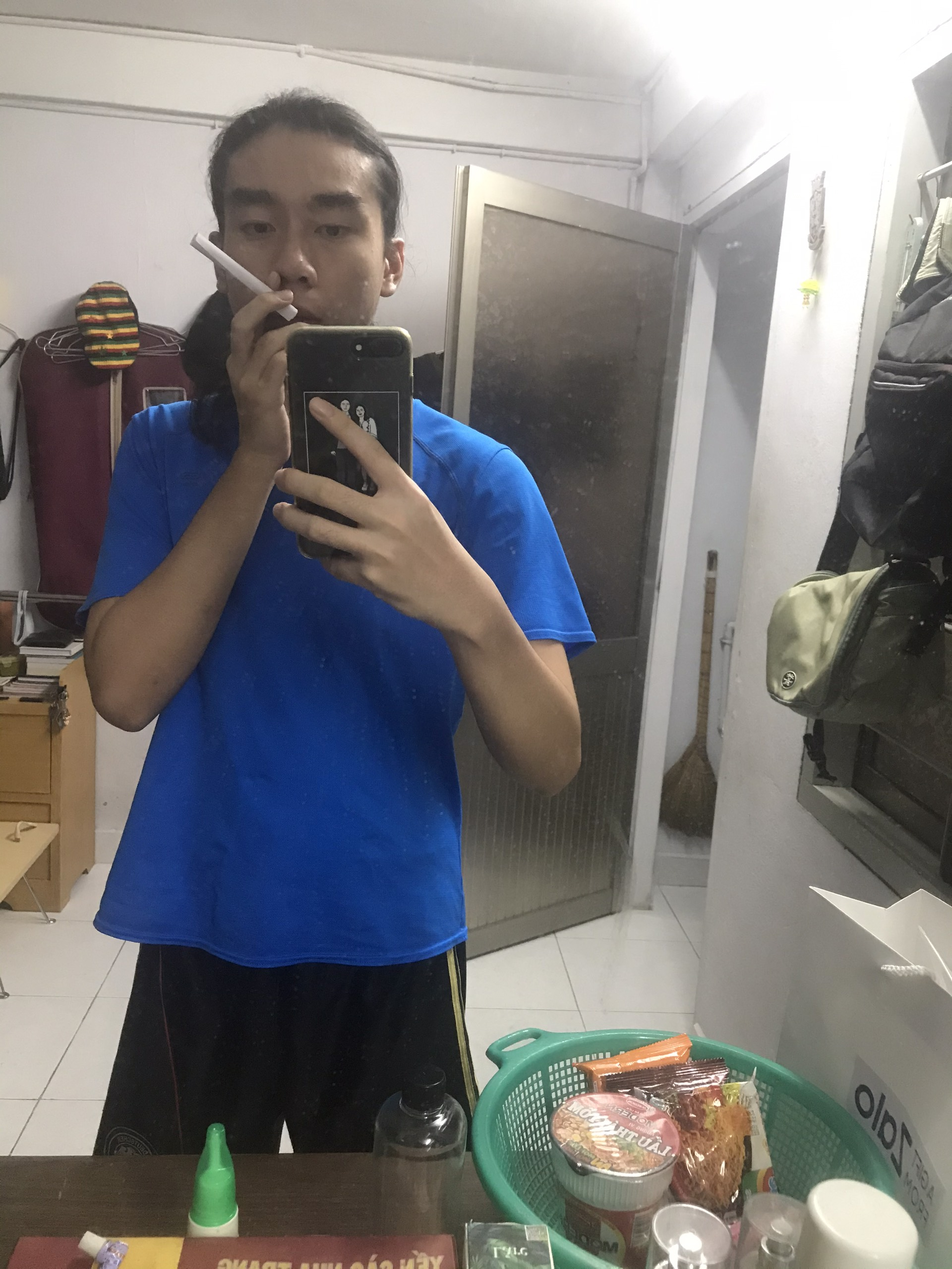cigarette: (184, 231, 271, 300)
person: (30, 79, 600, 1168)
